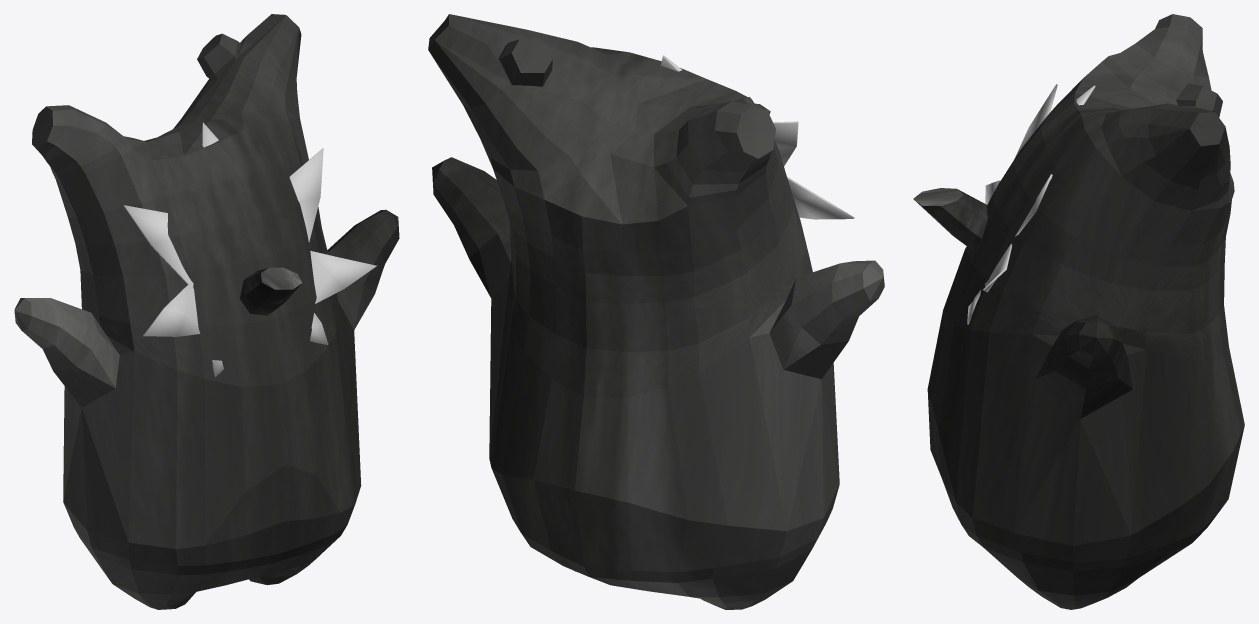
Rendered from frame_0026.obj.
The picture shows the model from 3 angles, left to right: view 1: azimuth 30°, elevation 25°; view 2: azimuth 150°, elevation 25°; view 3: azimuth 270°, elevation 25°; orthographic projection. The views are drawn at different scales.
Parts seen in each view (by area): view 1: korok, leaf, nose.003_柱体.011; view 2: korok, leaf; view 3: korok, nose.003_柱体.011, leaf.
Part boxes in pixels (x1,y1,x2,y2): korok: (14,14,399,609); leaf: (123,122,376,376); nose.003_柱体.011: (240,267,302,315); korok: (428,14,884,609); leaf: (660,55,854,219); korok: (927,14,1244,609); nose.003_柱体.011: (913,188,987,249); leaf: (967,84,1095,324).
Size of the model in its own units: 1.71 by 2.15 by 1.21.
